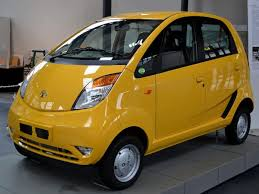Nano: (8, 11, 253, 187)
